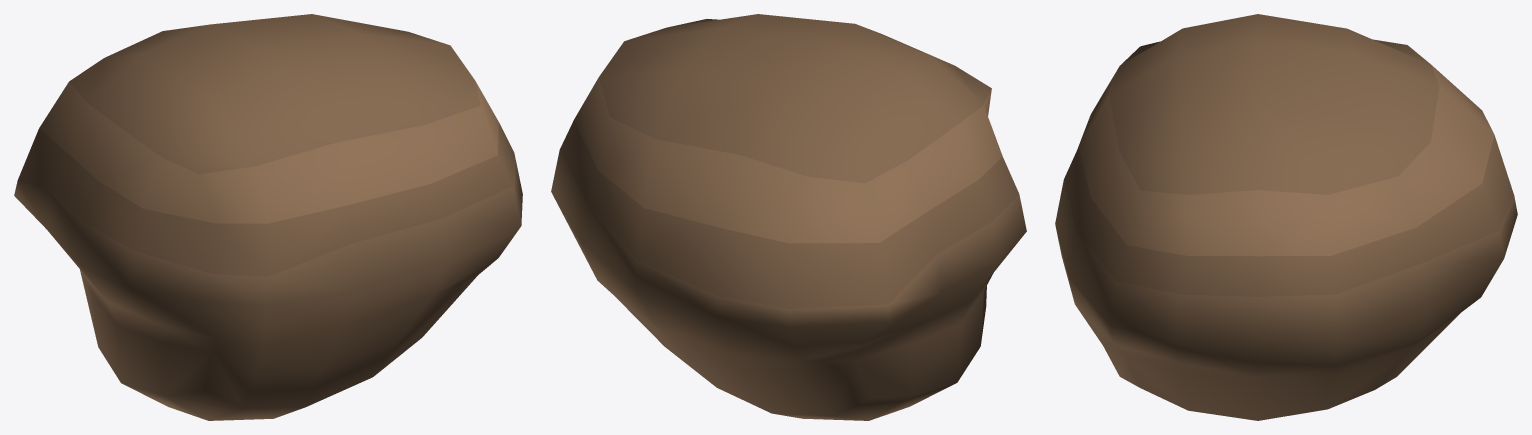
Rendered from SandstonePebble.006.glb.
3 views of the same model, side by side, from view 1: azimuth 30°, elevation 25°; view 2: azimuth 150°, elevation 25°; view 3: azimuth 270°, elevation 25° (orthographic). The views are drawn at different scales.
Parts seen in each view (by area): view 1: SandstonePebble.006; view 2: SandstonePebble.006; view 3: SandstonePebble.006.
Boxes of the visible parts, x1,y1,x2,y2 form: SandstonePebble.006: (14, 14, 522, 420); SandstonePebble.006: (551, 14, 1026, 420); SandstonePebble.006: (1055, 14, 1517, 420).
Bounding box in the file's own units: 11.58 × 9.35 × 10.67.
